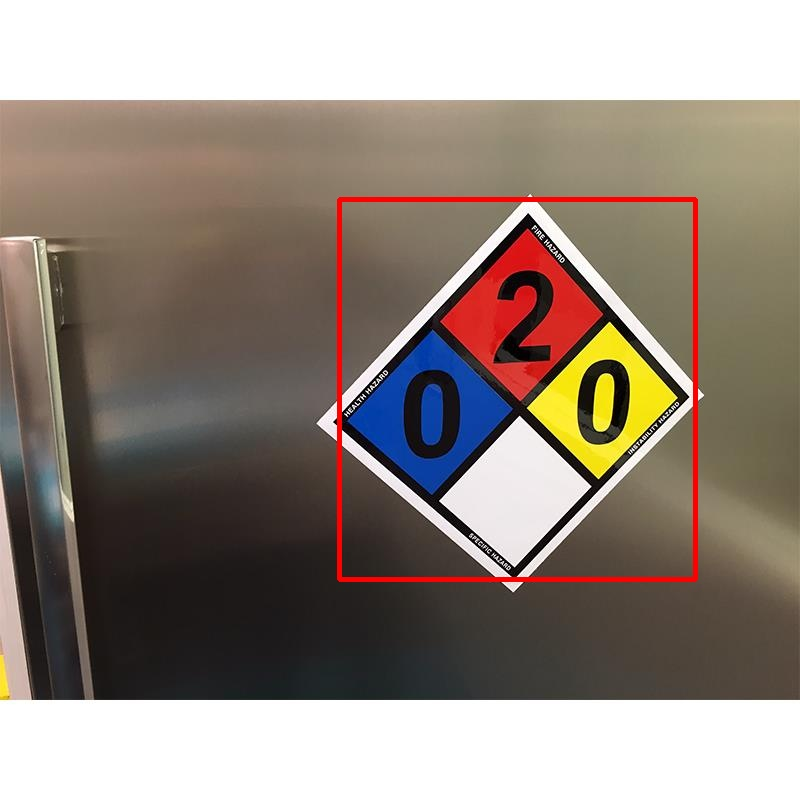nfpa: (339, 199, 695, 579)
